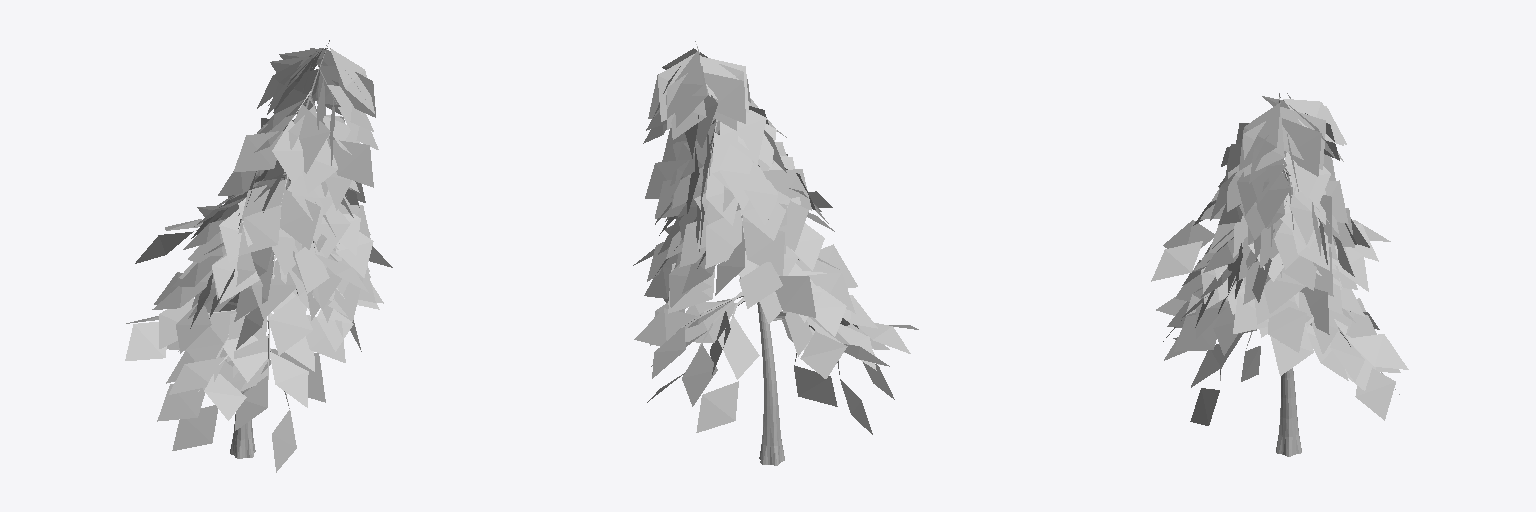
The model's file is pine_tree_v2.obj.
The picture shows the model from 3 angles: view 1: azimuth 30°, elevation 25°; view 2: azimuth 150°, elevation 25°; view 3: azimuth 270°, elevation 25°; orthographic projection.
Visible parts, largest first — view 1: tree; view 2: tree; view 3: tree.
Part boxes in pixels (x1,y1,x2,y2): tree: (125,40,392,472); tree: (633,41,918,465); tree: (1151,93,1408,456).
Bounding box in the file's own units: 247 × 369 × 217.